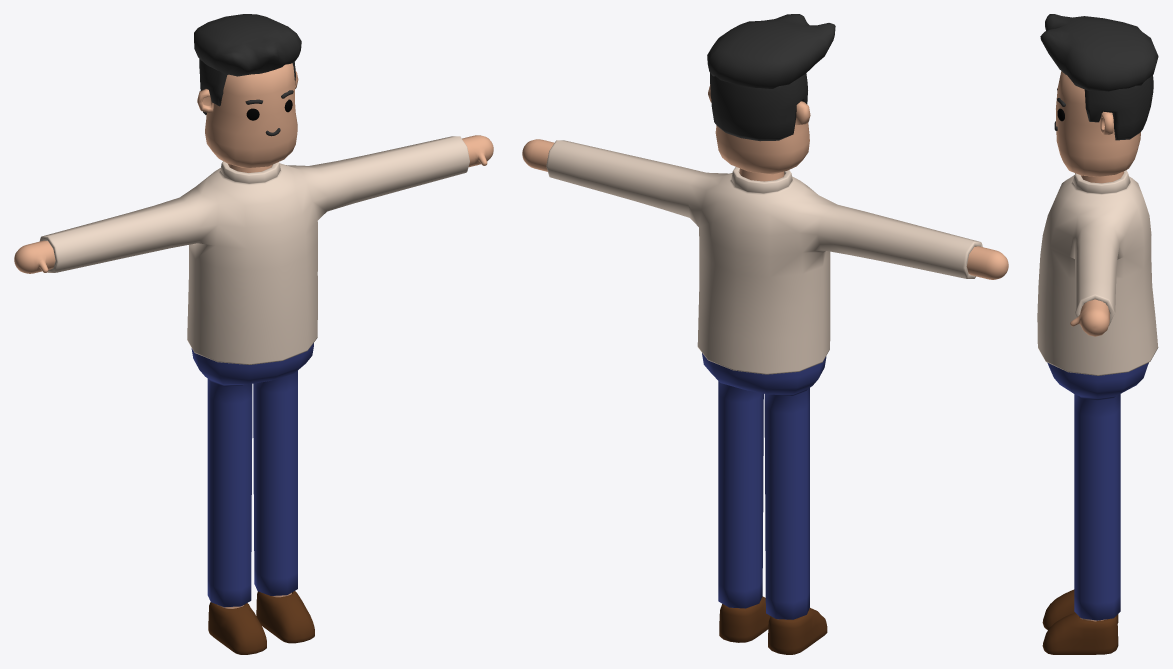
Rendered from uploads_files_2788856_char_Adam.fbx.
The picture shows the model from 3 angles, left to right: view 1: azimuth 30°, elevation 25°; view 2: azimuth 150°, elevation 25°; view 3: azimuth 270°, elevation 25°; orthographic projection.
Visible parts, largest first — view 1: Char_Tshirt, Char_Pant, Char_Head, Char_Hair, Char_Shoe_R, Char_Shoe_L, Char_Hand_R, Char_Hand_L; view 2: Char_Tshirt, Char_Pant, Char_Hair, Char_Head, Char_Shoe_R, Char_Shoe_L, Char_Hand_R, Char_Hand_L; view 3: Char_Tshirt, Char_Pant, Char_Hair, Char_Head, Char_Shoe_L, Char_Hand_L, Char_Shoe_R.
Part boxes in pixels (x1,y1,x2,y2): Char_Tshirt: [39, 136, 469, 364]; Char_Pant: [191, 343, 313, 607]; Char_Head: [197, 63, 298, 172]; Char_Hair: [194, 14, 301, 114]; Char_Shoe_R: [208, 602, 266, 654]; Char_Shoe_L: [256, 591, 314, 643]; Char_Hand_R: [14, 240, 55, 273]; Char_Hand_L: [462, 135, 493, 167]; Char_Tshirt: [546, 140, 982, 374]; Char_Pant: [702, 353, 826, 619]; Char_Hair: [707, 14, 835, 141]; Char_Head: [708, 85, 810, 181]; Char_Shoe_R: [768, 608, 827, 654]; Char_Shoe_L: [719, 596, 770, 642]; Char_Hand_R: [966, 246, 1008, 279]; Char_Hand_L: [522, 139, 554, 171]; Char_Tshirt: [1037, 170, 1158, 375]; Char_Pant: [1047, 362, 1148, 620]; Char_Hair: [1040, 14, 1158, 140]; Char_Head: [1056, 71, 1140, 183]; Char_Shoe_L: [1042, 612, 1118, 654]; Char_Hand_L: [1070, 299, 1109, 336]; Char_Shoe_R: [1042, 589, 1118, 629].
Size of the model in its own units: 140 by 170 by 30.91.
